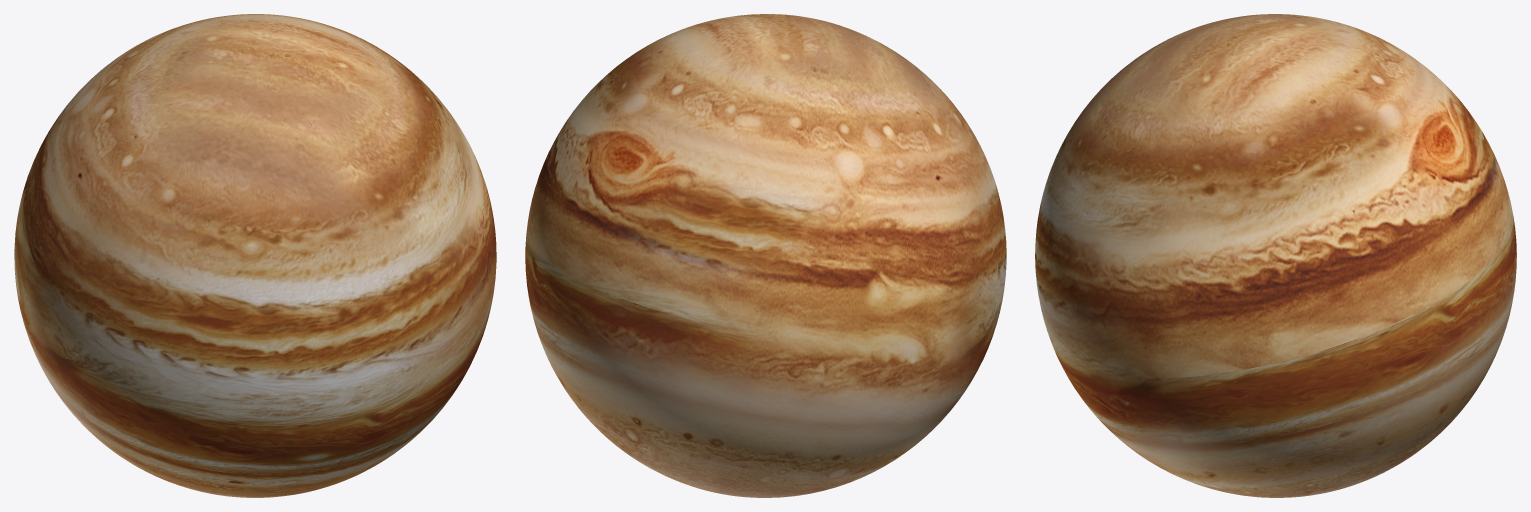
Rendered from Jupiter.glb.
3 renders of one model, left to right at view 1: azimuth 30°, elevation 25°; view 2: azimuth 150°, elevation 25°; view 3: azimuth 270°, elevation 25°, orthographic.
Parts seen in each view (by area): view 1: Jupiter; view 2: Jupiter; view 3: Jupiter.
Part boxes in pixels (x1,y1,x2,y2): Jupiter: (14,14,496,497); Jupiter: (525,14,1006,497); Jupiter: (1035,14,1516,497).
Bounding box in the file's own units: 0.0329 × 0.0331 × 0.0329.
1 material, 1 textured.
